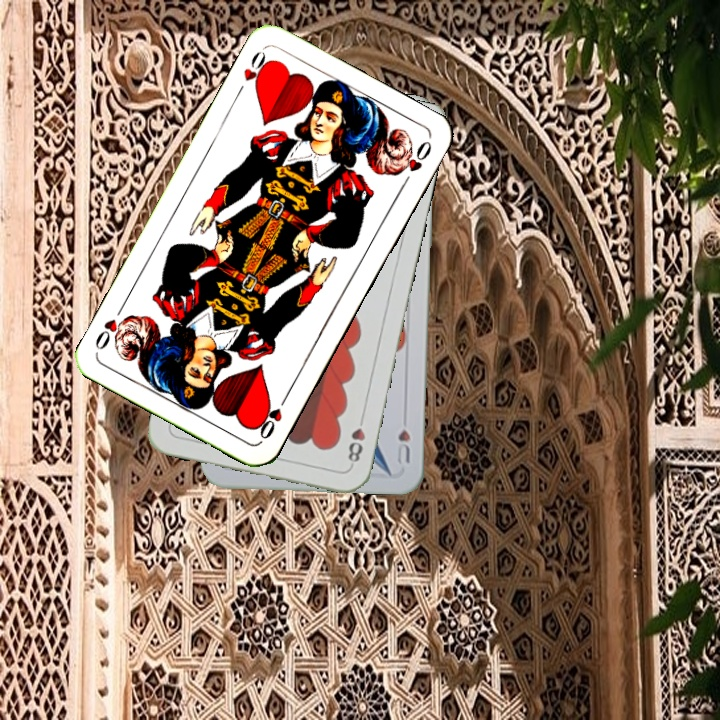H8: (343, 410, 368, 469)
HO: (232, 46, 275, 99), (253, 390, 292, 442)
HU: (393, 425, 413, 467)
